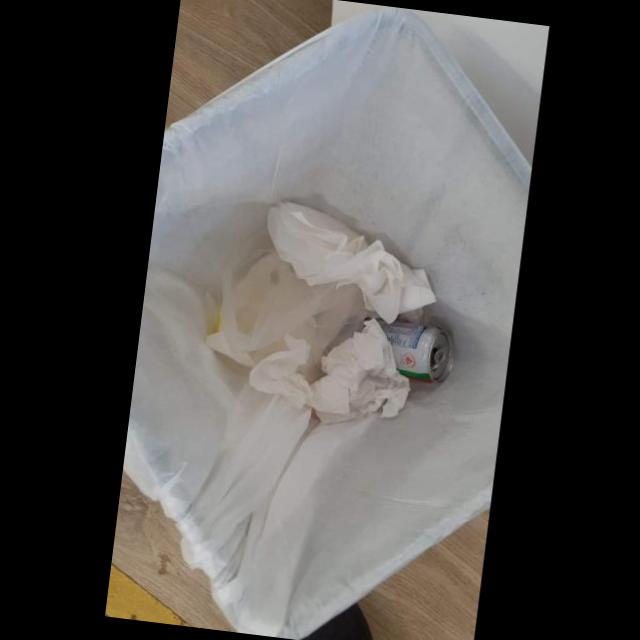giay: (206, 253, 408, 424), (265, 203, 436, 326)
nhom: (370, 318, 455, 386)
